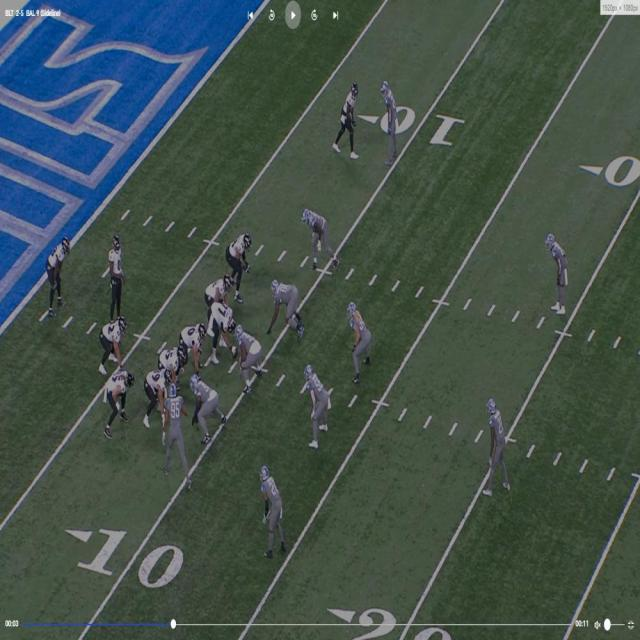center: (208, 298, 237, 361)
db: (484, 394, 512, 490), (545, 234, 569, 320), (260, 467, 282, 554), (379, 81, 400, 151)
lb: (302, 364, 332, 453), (165, 382, 188, 492), (348, 298, 373, 382), (302, 209, 330, 276)
qb: (110, 233, 126, 314)
skill: (338, 82, 362, 154), (106, 362, 128, 430), (51, 240, 70, 302), (100, 317, 128, 359), (144, 369, 172, 406)
